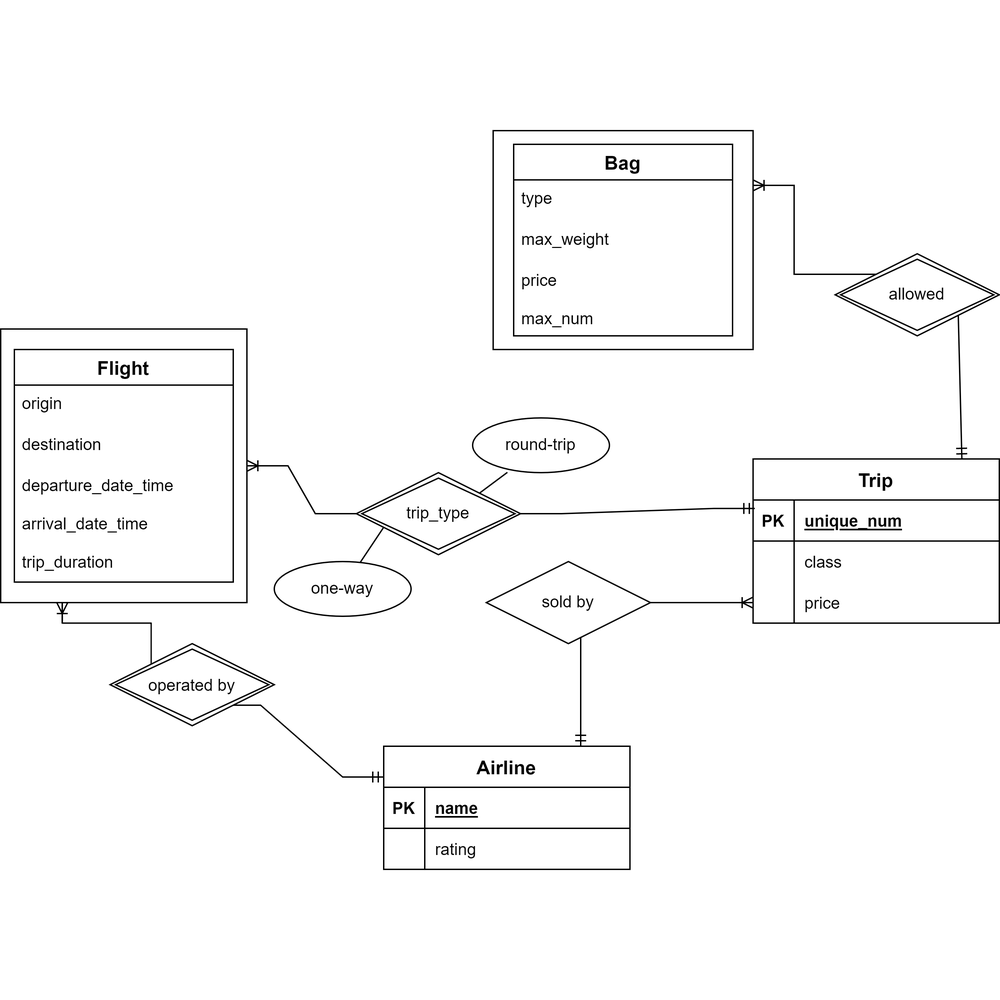attribute: (470, 416, 620, 471), (274, 561, 409, 620)
entity: (1, 325, 251, 607), (485, 127, 760, 352), (748, 454, 1000, 627), (382, 743, 633, 872)
relationship: (485, 558, 661, 647), (107, 645, 276, 729), (831, 254, 996, 336), (365, 470, 518, 558)
